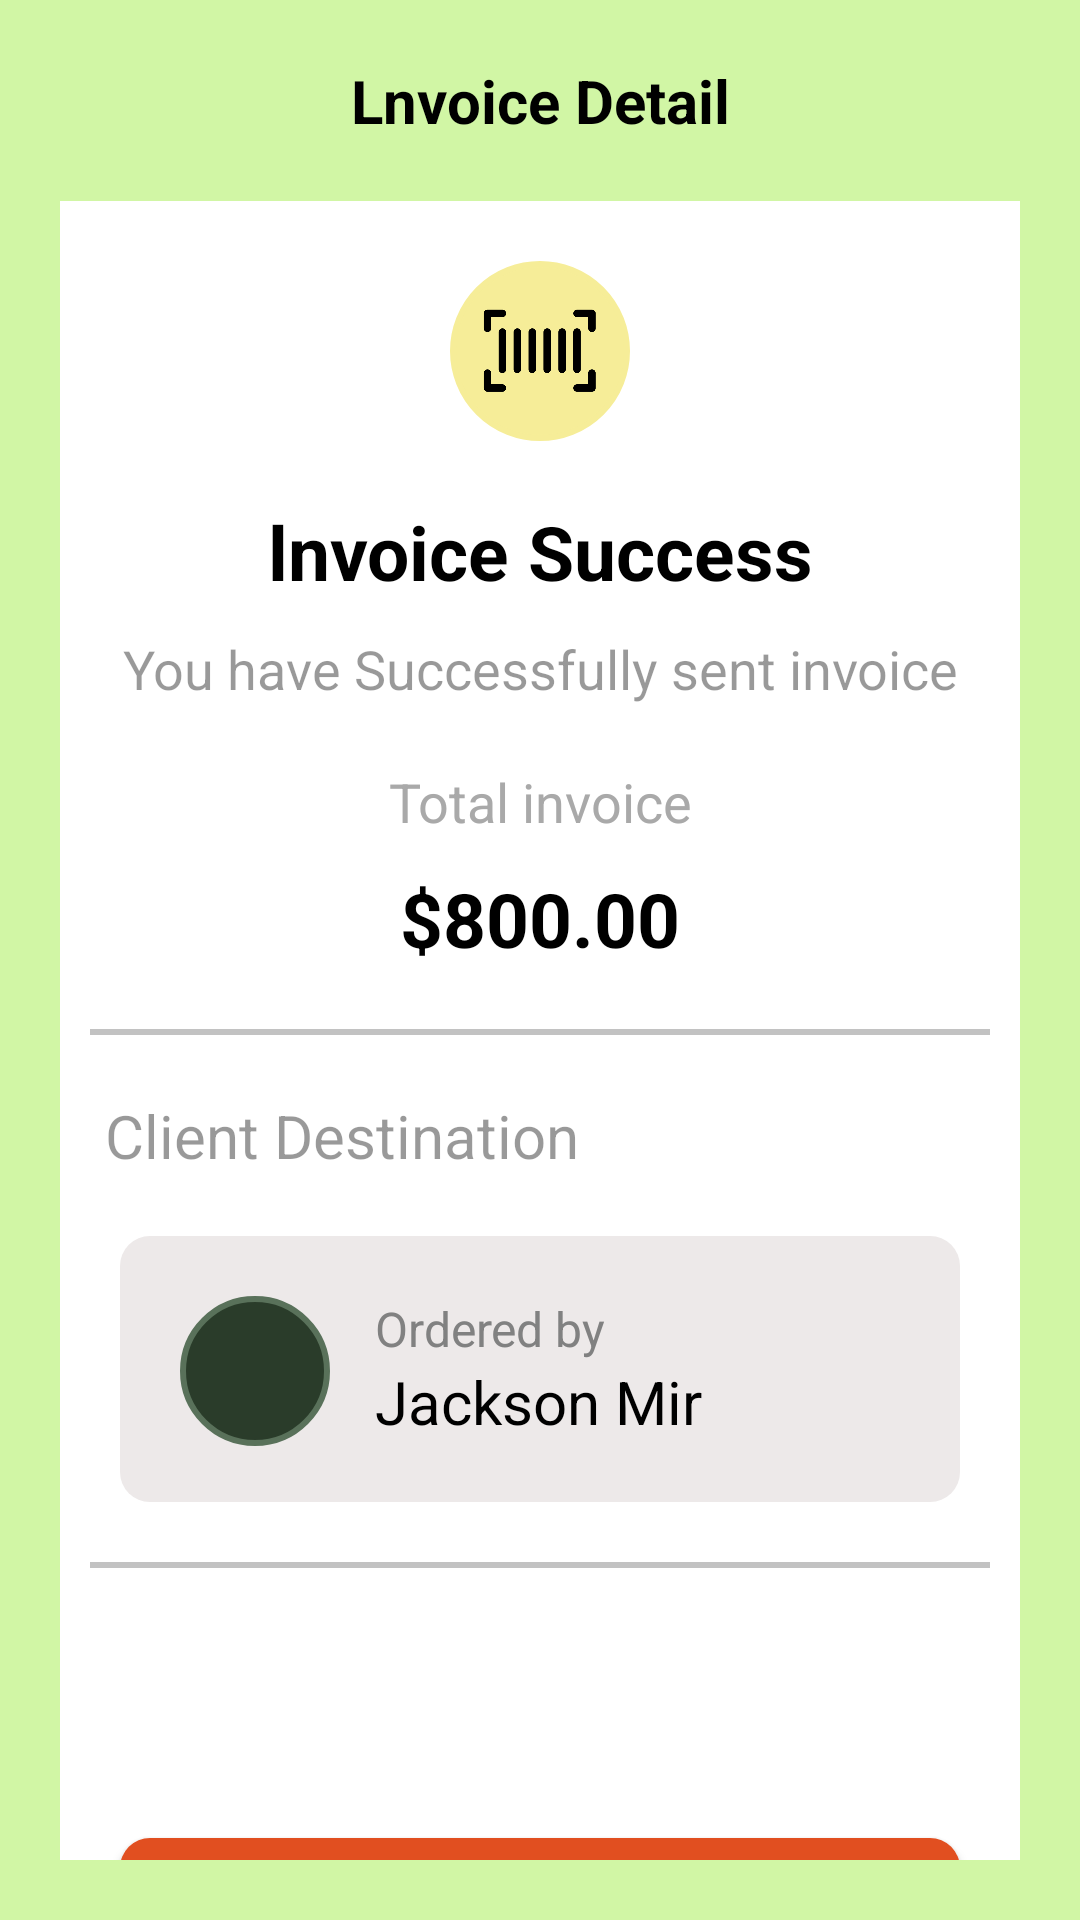

Screen size 1080 × 1920. Icon name, then its center in pixels as (x,y):
barcode: (540,351)
